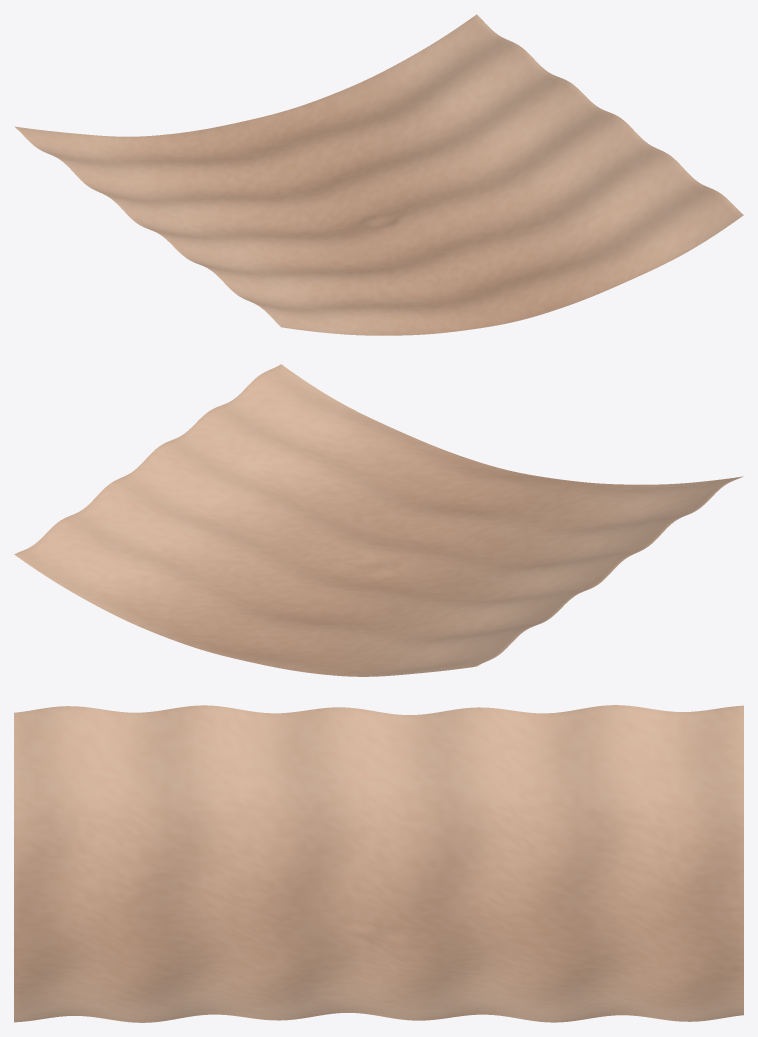
Rendered from ingenuity_airfield.glb.
3 renders of one model, top to bottom at view 1: azimuth 30°, elevation 25°; view 2: azimuth 150°, elevation 25°; view 3: azimuth 270°, elevation 25°, orthographic. The views are drawn at different scales.
Visible parts, largest first — view 1: TYPE_TILE_ID_0___MD_1_Ingenuity_Neretva_Vallis_Airfield; view 2: TYPE_TILE_ID_0___MD_1_Ingenuity_Neretva_Vallis_Airfield; view 3: TYPE_TILE_ID_0___MD_1_Ingenuity_Neretva_Vallis_Airfield.
Part boxes in pixels (<box>): TYPE_TILE_ID_0___MD_1_Ingenuity_Neretva_Vallis_Airfield: <box>14,14,743,335</box>; TYPE_TILE_ID_0___MD_1_Ingenuity_Neretva_Vallis_Airfield: <box>14,364,743,676</box>; TYPE_TILE_ID_0___MD_1_Ingenuity_Neretva_Vallis_Airfield: <box>14,705,743,1022</box>.
Bounding box in the file's own units: 120 × 14.37 × 120.
